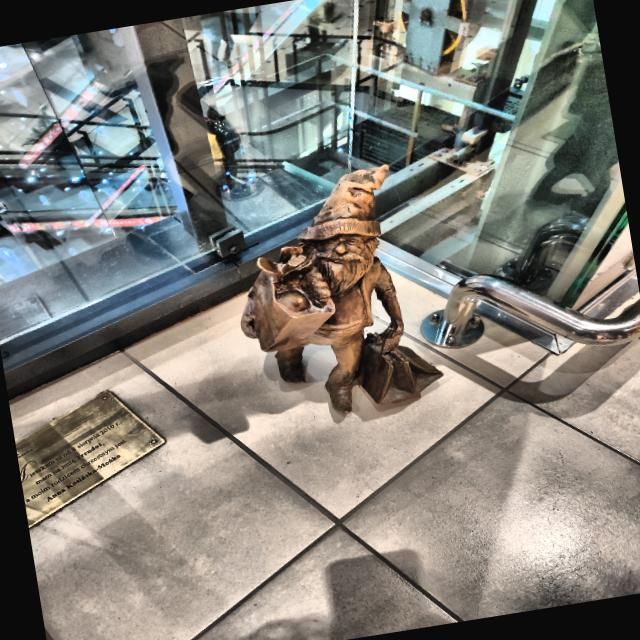Trendus: (241, 165, 442, 414)
